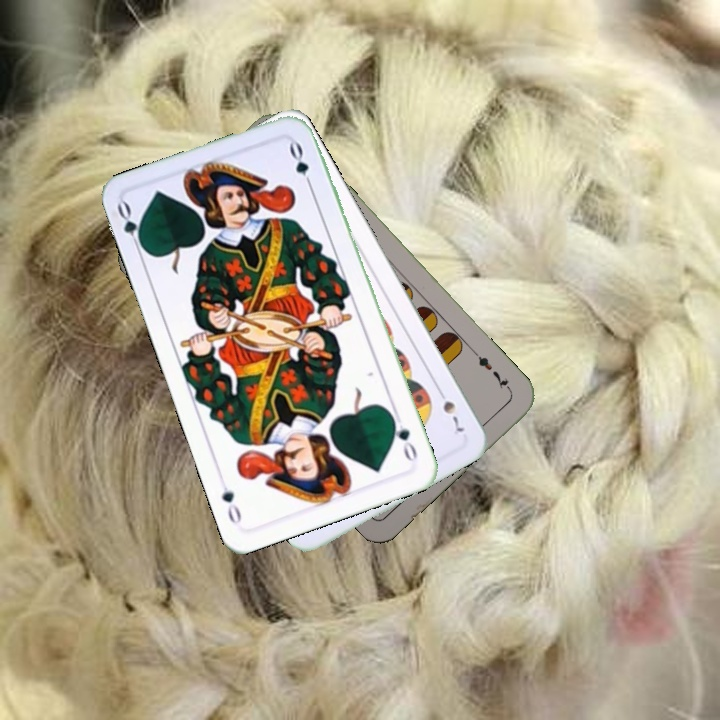E7: (469, 347, 514, 394)
GO: (113, 198, 148, 256), (387, 411, 420, 464)
S7: (433, 383, 467, 435)
